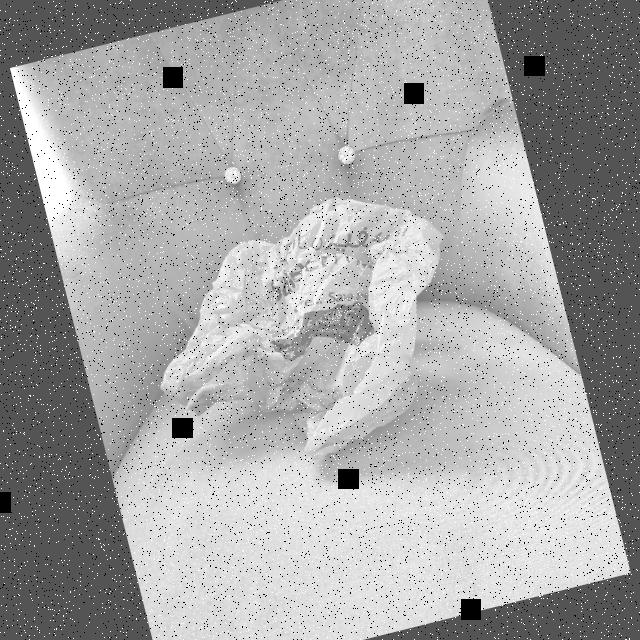plastic_bag: (123, 170, 492, 494)
